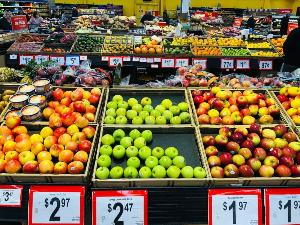apple: (100, 126, 206, 186), (200, 128, 300, 178), (1, 125, 97, 174), (190, 87, 292, 123), (103, 88, 194, 128), (174, 65, 300, 87), (46, 86, 103, 120), (28, 64, 112, 84)
